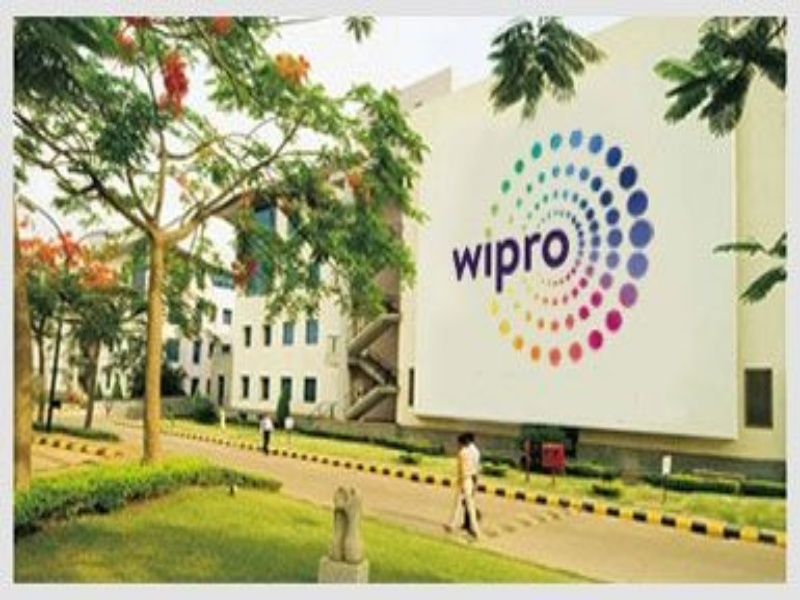wipro: (442, 129, 665, 369)
